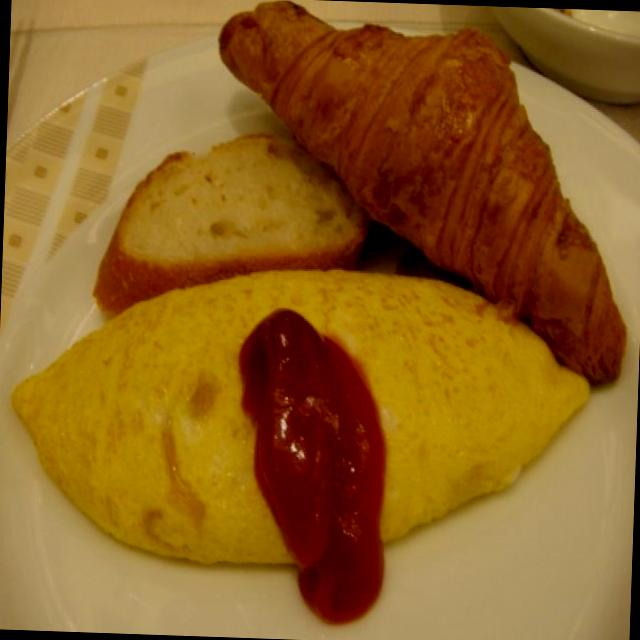Croissant: (200, 2, 639, 294)
Omelet: (3, 248, 595, 580)
